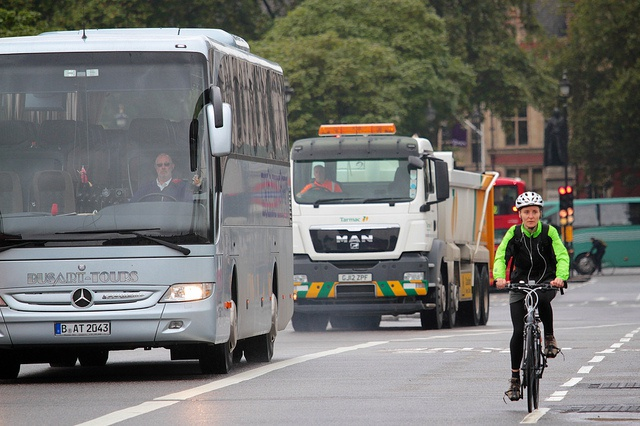non-vehicle: (492, 278, 564, 410), (577, 253, 615, 275)
